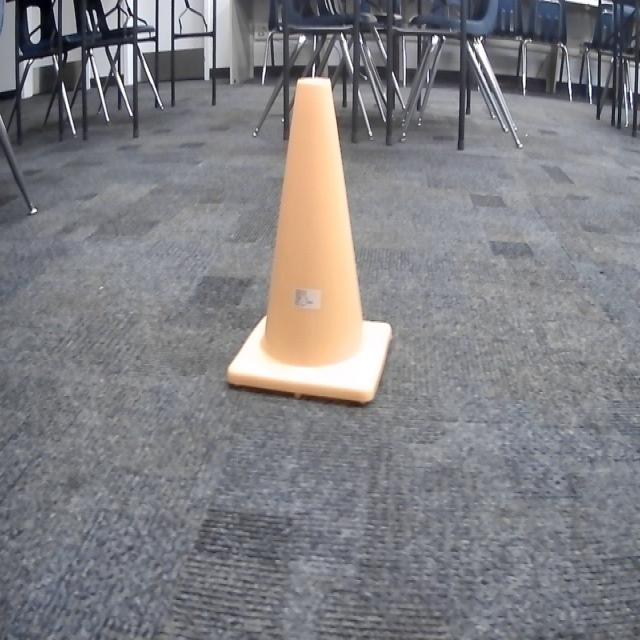cone: (227, 74, 397, 409)
